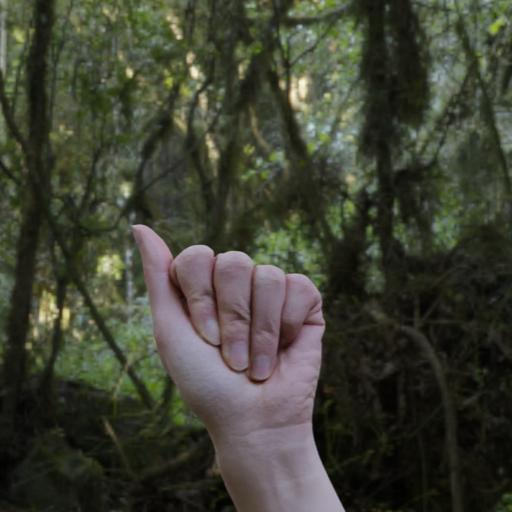A: (116, 206, 366, 451)
